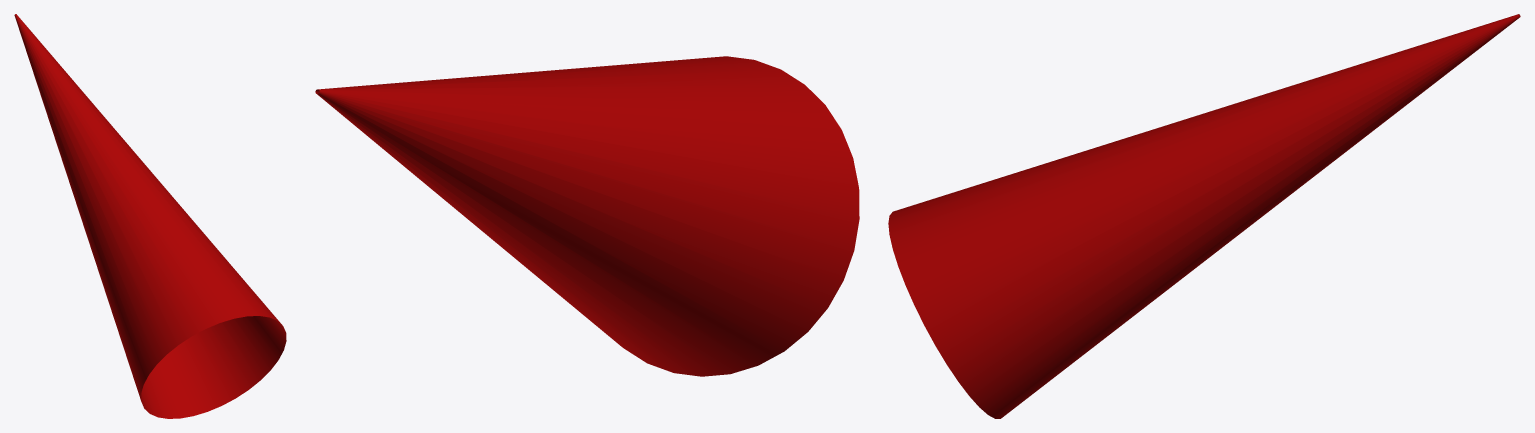
The model's file is Laser_scan.fbx.
3 renders of one model, left to right at view 1: azimuth 30°, elevation 25°; view 2: azimuth 150°, elevation 25°; view 3: azimuth 270°, elevation 25°, orthographic. The views are drawn at different scales.
Parts seen in each view (by area): view 1: pCylinder1; view 2: pCylinder1; view 3: pCylinder1.
Boxes of the visible parts, x1,y1,x2,y2 form: pCylinder1: (14, 14, 286, 418); pCylinder1: (315, 56, 859, 376); pCylinder1: (888, 14, 1520, 418).
Bounding box in the file's own units: 957 × 1774 × 2588.
